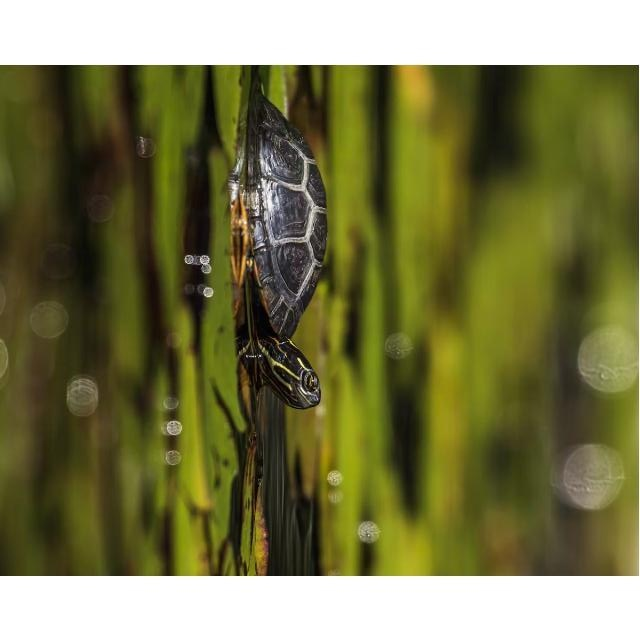turtle: (227, 76, 328, 412)
